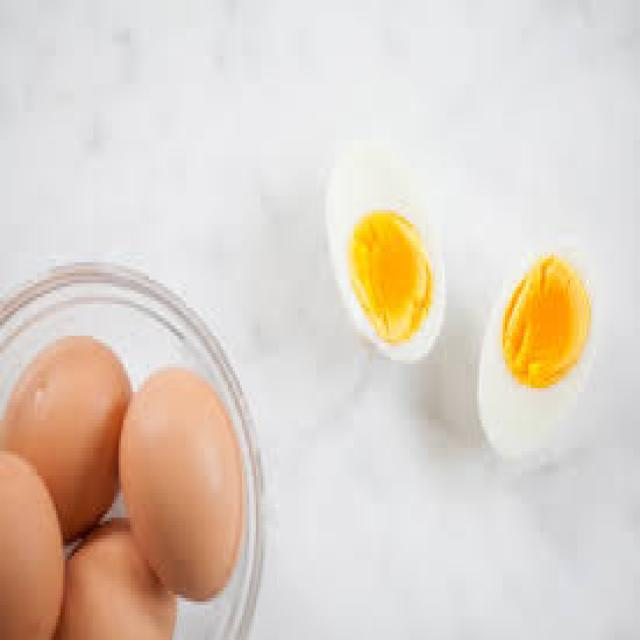boiled egg: (316, 120, 628, 536), (119, 368, 246, 601), (0, 336, 132, 542)
